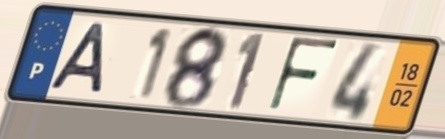1: (227, 31, 269, 113), (137, 25, 174, 102)
4: (327, 39, 379, 125)
8: (162, 24, 231, 112)
A: (46, 21, 111, 97)
F: (264, 34, 343, 117)
